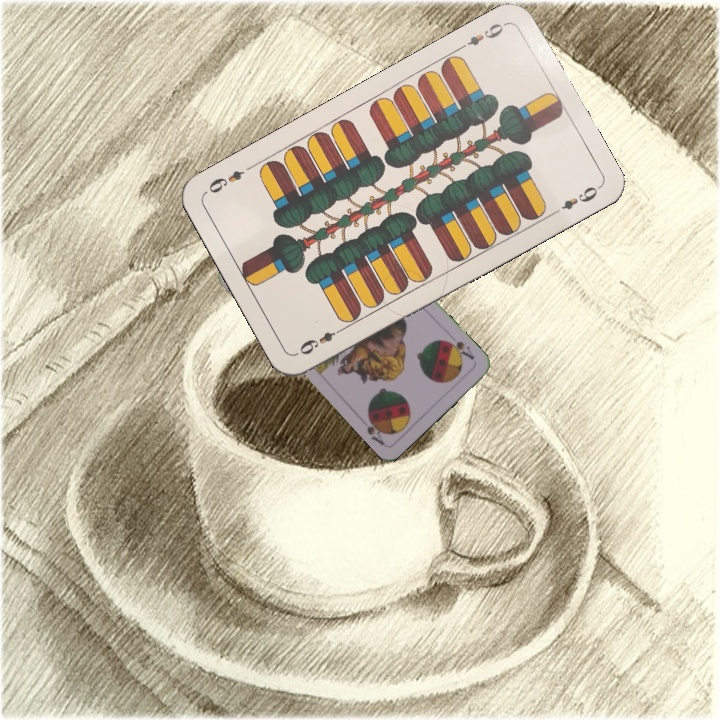E9: (455, 18, 510, 53), (295, 323, 348, 358)
SA: (442, 336, 477, 363)
